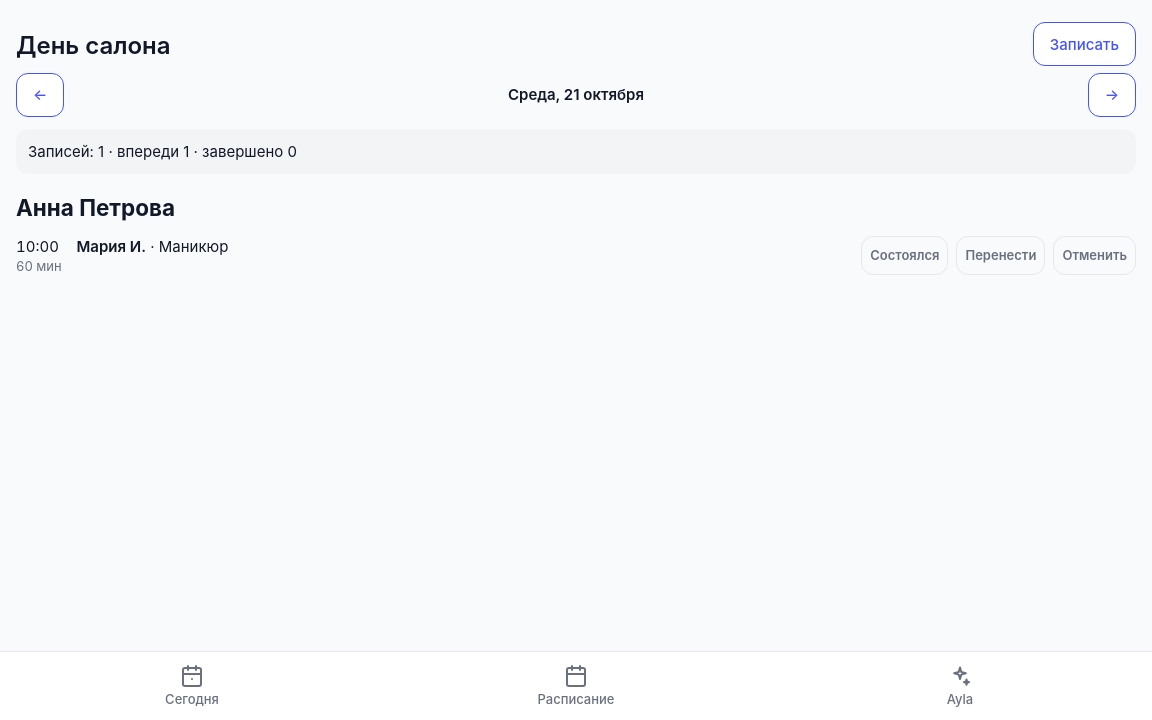
Test: cancelling a visit › asks before cancelling, because the customer gets told
Step 1. Click the button with aria-label "Отменить визит: Мария" → (1095, 256), box [1053,236,1136,275]
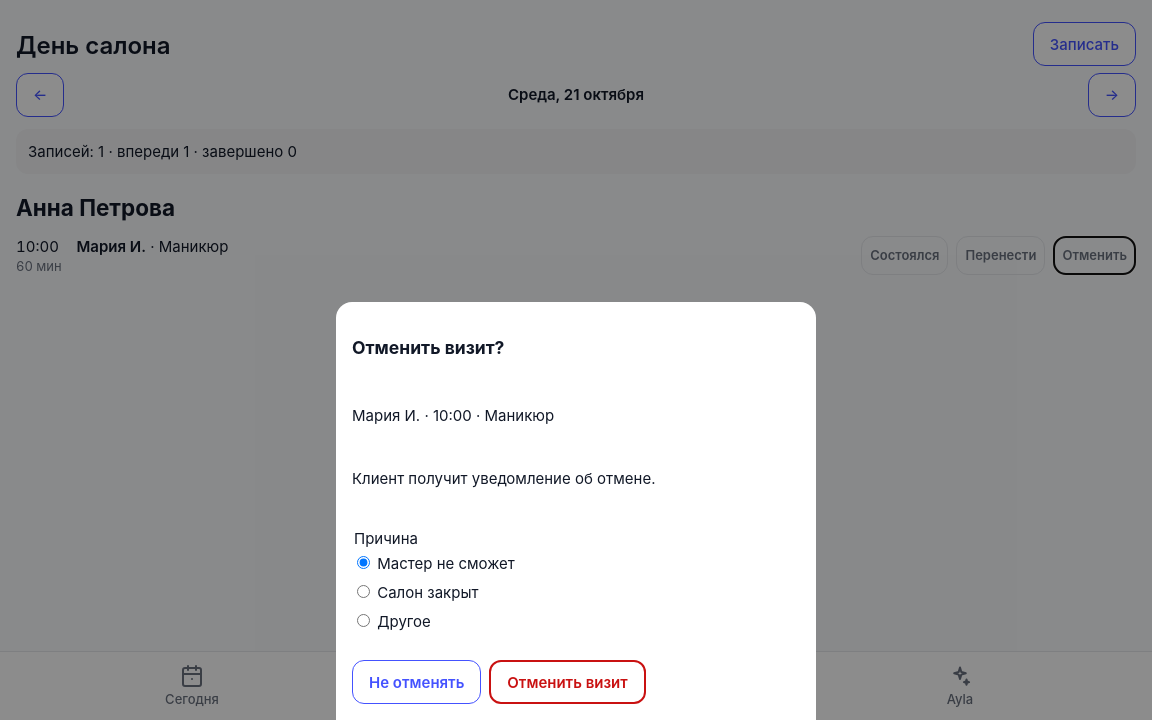
Check: the dialog named "Отмена визита" is shown
Check: the text "Клиент получит уведомление об отмене." is shown, box [352,469,656,488]
